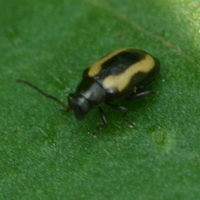insect: (68, 48, 159, 118)
